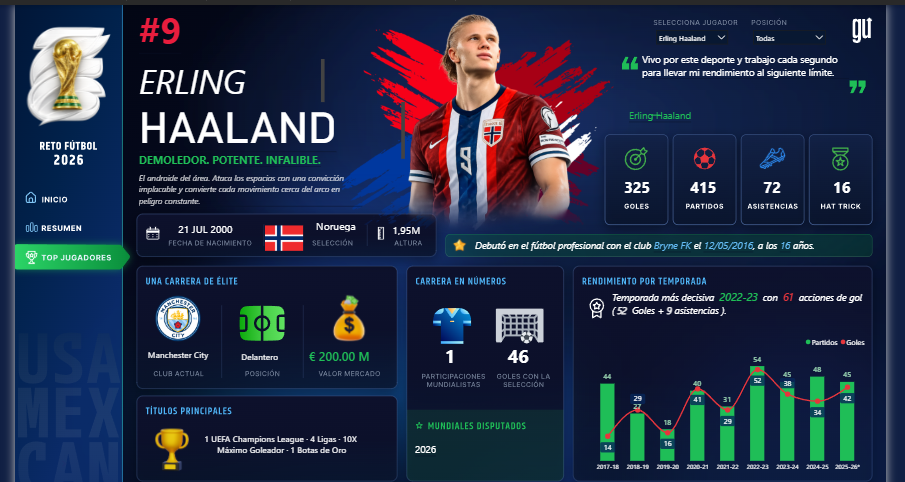

What the dashboard file says about the page in this screenshot:
{"tool":"powerbi","page":{"name":"Top Jugadores","canvas":[1920,1080],"ordinal":2},"visuals":[{"type":"card","fields":{"Values":["Medidas.Goles Carrera"]},"box":[1315.9,373,111.1,60.3],"z":0},{"type":"card","fields":{"Values":["Medidas.Partidos Carrera"]},"box":[1446,373,142.9,60.3],"z":1000},{"type":"card","fields":{"Values":["Medidas.Asistencias Carrera"]},"box":[1604.8,373,128.6,60.3],"z":2000},{"type":"card","fields":{"Values":["Medidas.Hat Tricks carrera"]},"box":[1760.3,373,122.2,60.3],"z":3000},{"type":"slicer","fields":{"Values":["Dim_Top_Jugadores.Top_Jugador"]},"box":[1407.9,50.8,168.3,41.3],"z":4000},{"type":"slicer","fields":{"Values":["Dim_Top_Jugadores.Posicion"]},"box":[1622.2,50.8,169.8,41.3],"z":5000},{"type":"image","box":[670,0,710,514],"z":6000},{"type":"textbox","box":[274,0,192.2,119.5],"z":7000},{"type":"textbox","box":[274,119.5,409.1,96.1],"z":8000},{"type":"textbox","box":[274,214.3,585.7,127.3],"z":9000},{"type":"textbox","box":[274,324.7,510.4,42.9],"z":10000},{"type":"textbox","box":[274,367.5,492.2,148.1],"z":11000},{"type":"textbox","box":[1381,104.8,455.6,125.4],"z":12000},{"type":"textbox","box":[1354,230.2,379.4,39.7],"z":13000},{"type":"card","fields":{"Values":["Medidas.Fecha_Nacimiento_Formato"]},"box":[330,470,178,54],"z":14000},{"type":"card","fields":{"Values":["Min(Dim_Top_Jugadores.Equipo)"]},"box":[630,466,154,50],"z":15000},{"type":"card","fields":{"Values":["Medidas.Altura_M"]},"box":[798,472,130,52],"z":16000},{"type":"image","box":[550,462,84,102],"z":17000},{"type":"image","box":[292.1,625.4,131.7,130.2],"z":18000},{"type":"card","fields":{"Values":["Min(Dim_Top_Jugadores.Club)"]},"box":[274.6,746,168.3,57.1],"z":19000},{"type":"card","fields":{"Values":["Min(Dim_Top_Jugadores.Posicion)"]},"box":[466.7,749.2,144.4,57.1],"z":20000},{"type":"card","fields":{"Values":["Medidas.Valor_Mercado_Jugador"]},"box":[611.1,747.6,207.9,57.1],"z":21000},{"type":"card","fields":{"Values":["Medidas.Titulos Principales"]},"box":[380,888,418,158],"z":22000},{"type":"textbox","box":[1014.3,515.9,868.3,49.2],"z":23000},{"type":"card","fields":{"Values":["Medidas.Numero_Participaciones_Mundialistas"]},"box":[904.8,730.2,109.5,90.5],"z":24000},{"type":"card","fields":{"Values":["Medidas.Goles_seleccion"]},"box":[1054,730.2,111.1,87.3],"z":25000},{"type":"textbox","box":[882,966,314,52],"z":26000},{"type":"textbox","box":[1315.9,625.4,577.8,85.7],"z":27000},{"type":"lineClusteredColumnComboChart","fields":{"Category":["Estadisticas_Jugador.Temporada"],"Y":["Medidas.Partidos por Temporada"],"Y2":["Medidas.Goles por Temporada"]},"box":[1247.8,711.6,646.4,334.8],"z":28000},{"type":"actionButton","box":[0,402.5,237.5,52.5],"z":28001},{"type":"actionButton","box":[0,455,237.5,52.5],"z":28002}]}

Visuals, with their boxes on the page's 1920x1080 design canvas (x1, y1, x2, y2). These are canvas units, not pixel positions in the 905x482 screenshot, which may show the page scaled, cropped or inside an application window:
card - Medidas.Goles Carrera: [1316, 373, 1427, 433]
card - Medidas.Partidos Carrera: [1446, 373, 1589, 433]
card - Medidas.Asistencias Carrera: [1605, 373, 1733, 433]
card - Medidas.Hat Tricks carrera: [1760, 373, 1882, 433]
slicer - Dim_Top_Jugadores.Top_Jugador: [1408, 51, 1576, 92]
slicer - Dim_Top_Jugadores.Posicion: [1622, 51, 1792, 92]
image: [670, 0, 1380, 514]
textbox: [274, 0, 466, 120]
textbox: [274, 120, 683, 216]
textbox: [274, 214, 860, 342]
textbox: [274, 325, 784, 368]
textbox: [274, 368, 766, 516]
textbox: [1381, 105, 1837, 230]
textbox: [1354, 230, 1733, 270]
card - Medidas.Fecha_Nacimiento_Formato: [330, 470, 508, 524]
card - Min(Dim_Top_Jugadores.Equipo): [630, 466, 784, 516]
card - Medidas.Altura_M: [798, 472, 928, 524]
image: [550, 462, 634, 564]
image: [292, 625, 424, 756]
card - Min(Dim_Top_Jugadores.Club): [275, 746, 443, 803]
card - Min(Dim_Top_Jugadores.Posicion): [467, 749, 611, 806]
card - Medidas.Valor_Mercado_Jugador: [611, 748, 819, 805]
card - Medidas.Titulos Principales: [380, 888, 798, 1046]
textbox: [1014, 516, 1883, 565]
card - Medidas.Numero_Participaciones_Mundialistas: [905, 730, 1014, 821]
card - Medidas.Goles_seleccion: [1054, 730, 1165, 818]
textbox: [882, 966, 1196, 1018]
textbox: [1316, 625, 1894, 711]
lineClusteredColumnComboChart - Estadisticas_Jugador.Temporada x Medidas.Partidos por Temporada: [1248, 712, 1894, 1046]
actionButton: [0, 402, 238, 455]
actionButton: [0, 455, 238, 508]
